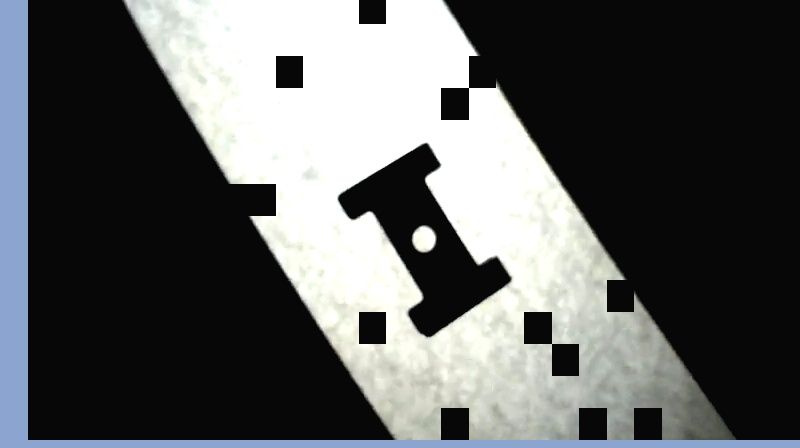O002: (331, 138, 514, 338)
